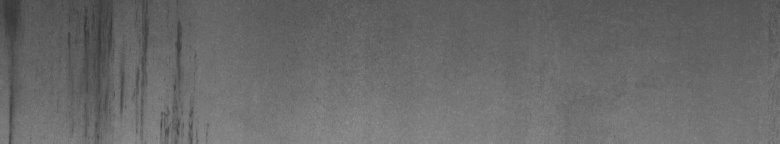ka: (4, 4, 196, 136)
